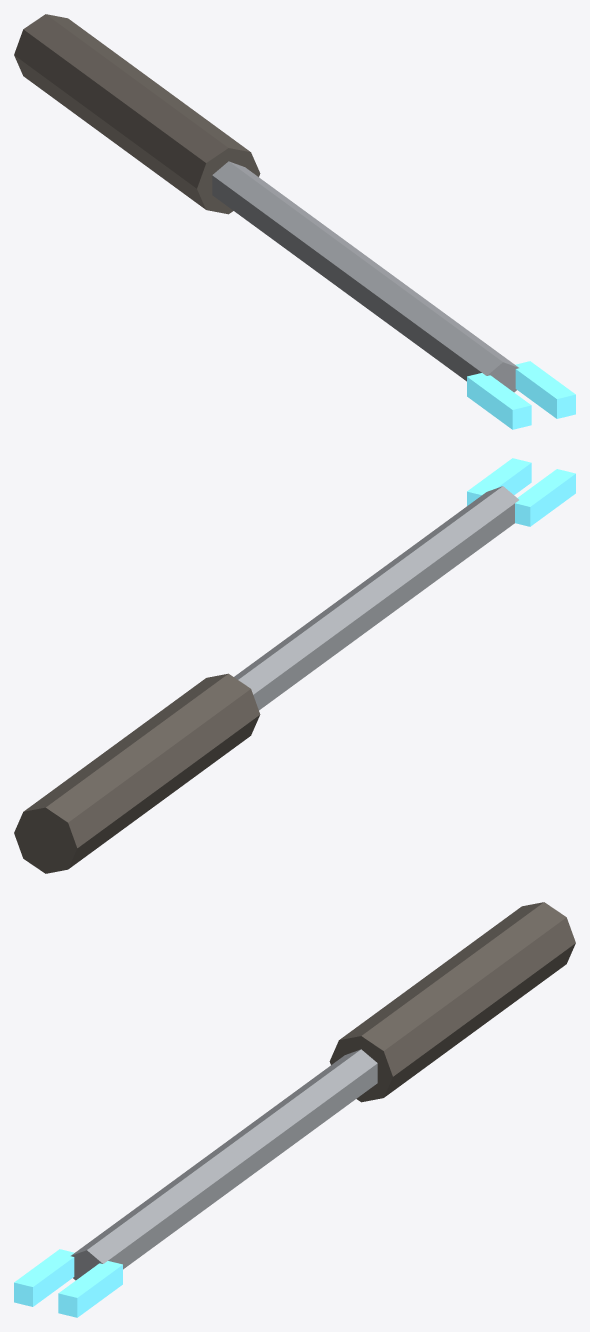
The model's file is shock_probe.glb.
3 views of the same model, one above another, from view 1: azimuth 30°, elevation 25°; view 2: azimuth 150°, elevation 25°; view 3: azimuth 330°, elevation 25° (orthographic).
Visible parts, largest first — view 1: Tool_shock_probe; view 2: Tool_shock_probe; view 3: Tool_shock_probe.
Boxes of the visible parts, x1,y1,x2,y2 form: Tool_shock_probe: [14, 14, 575, 429]; Tool_shock_probe: [14, 458, 575, 873]; Tool_shock_probe: [14, 902, 575, 1317].
Size of the model in its own units: 0.04 by 0.04 by 0.545.
